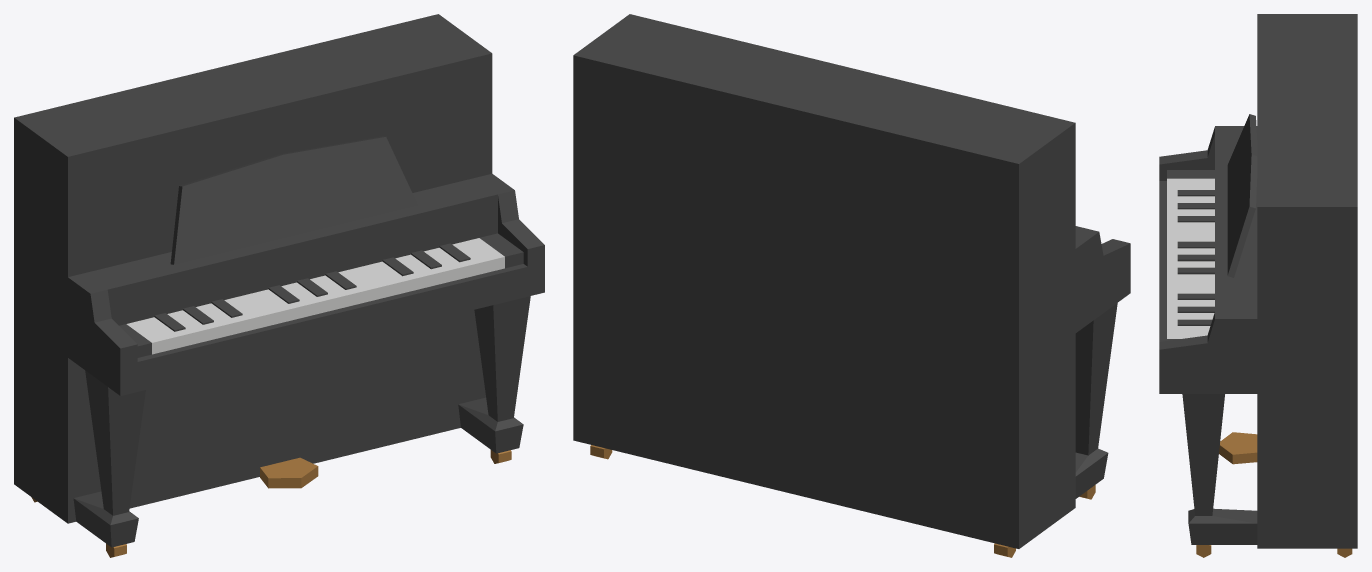
Rendered from pianino.fbx.
3 renders of one model, left to right at view 1: azimuth 30°, elevation 25°; view 2: azimuth 150°, elevation 25°; view 3: azimuth 270°, elevation 25°, orthographic. The views are drawn at different scales.
Parts seen in each view (by area): view 1: pianino; view 2: pianino; view 3: pianino.
Boxes of the visible parts, x1,y1,x2,y2 form: pianino: (14,14,544,557); pianino: (573,14,1130,557); pianino: (1159,14,1357,557).
Bounding box in the file's own units: 1.49 × 1.29 × 0.6458.
